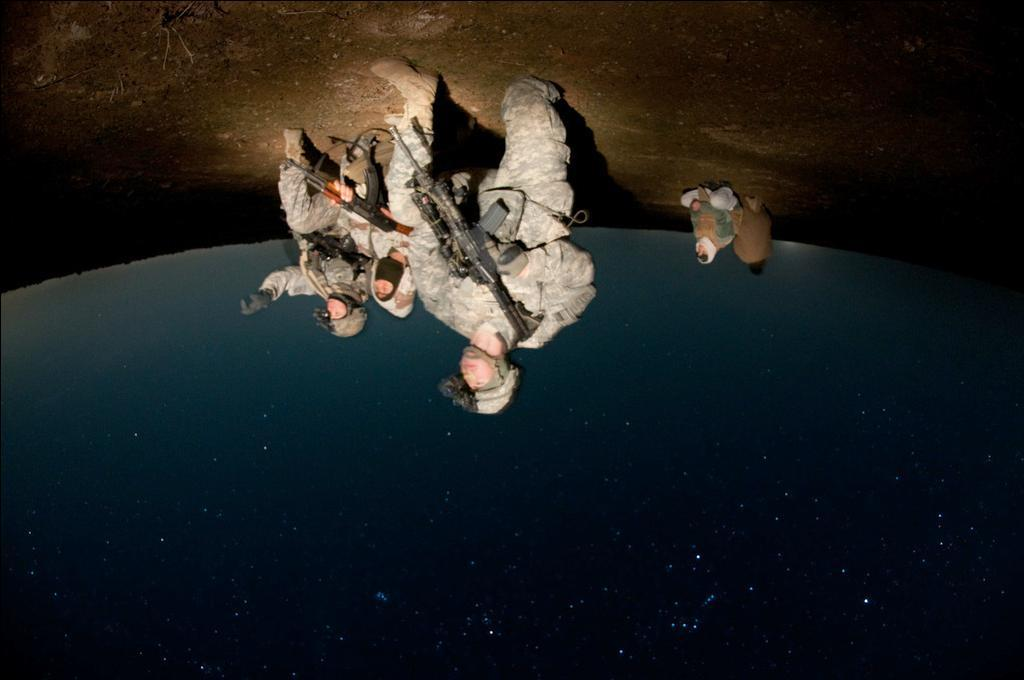gun: (390, 123, 539, 340), (285, 154, 413, 241)
